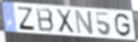5: (95, 11, 112, 37)
B: (35, 7, 55, 33)
G: (114, 12, 132, 38)
N: (74, 9, 95, 36)
X: (55, 8, 75, 35)
Z: (17, 6, 37, 32)
